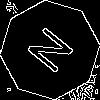N: (25, 25, 83, 82)
